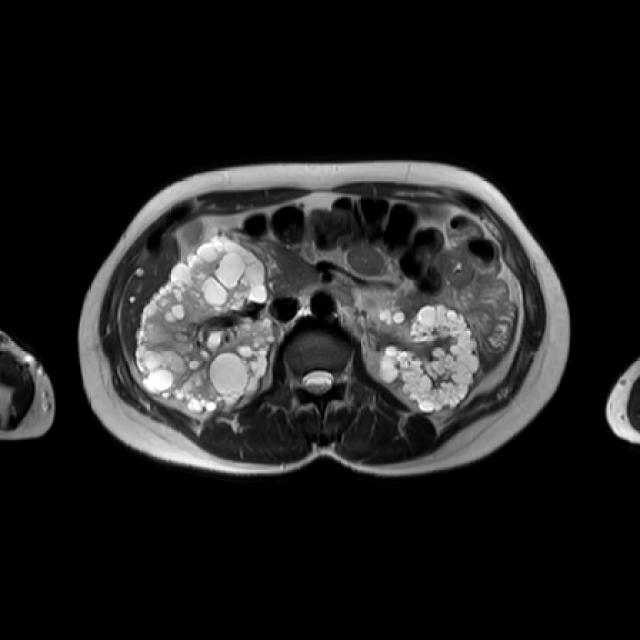sag: (140, 237, 277, 408)
sol: (379, 305, 480, 410)
